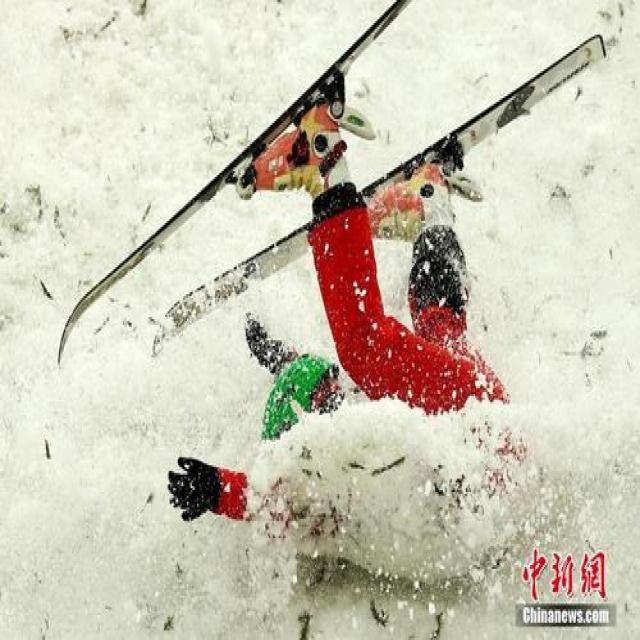down: (164, 83, 526, 540)
